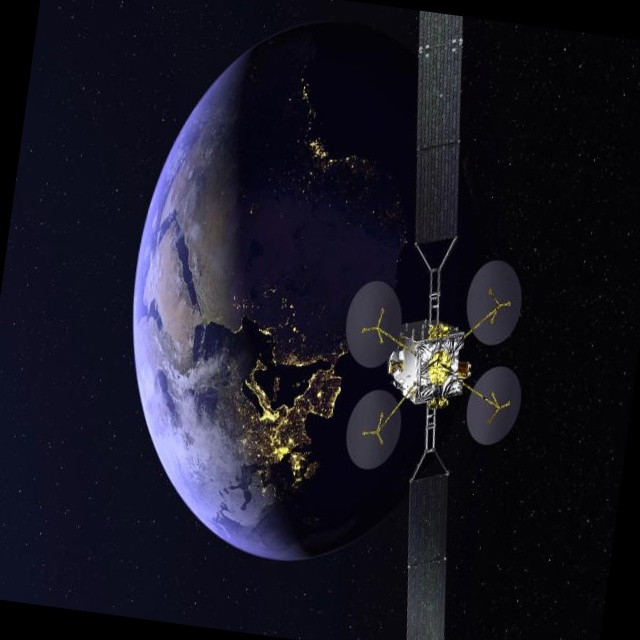satellite: (294, 5, 581, 640)
